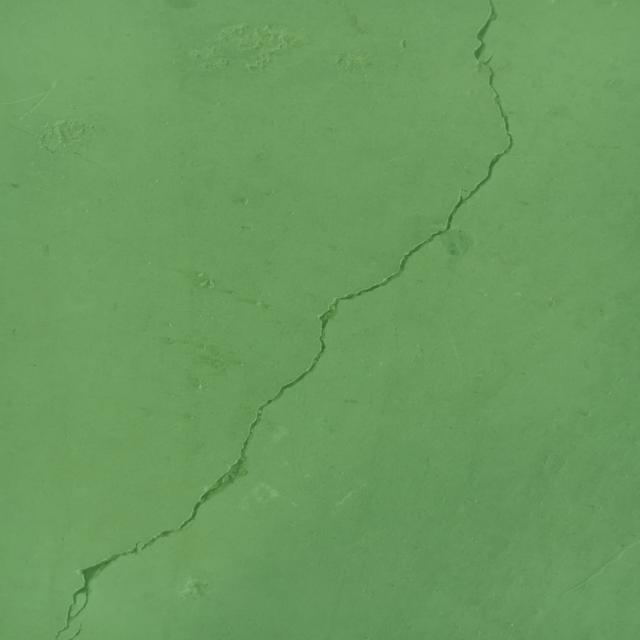crack: (140, 0, 514, 553), (54, 541, 142, 640), (68, 620, 84, 640)
